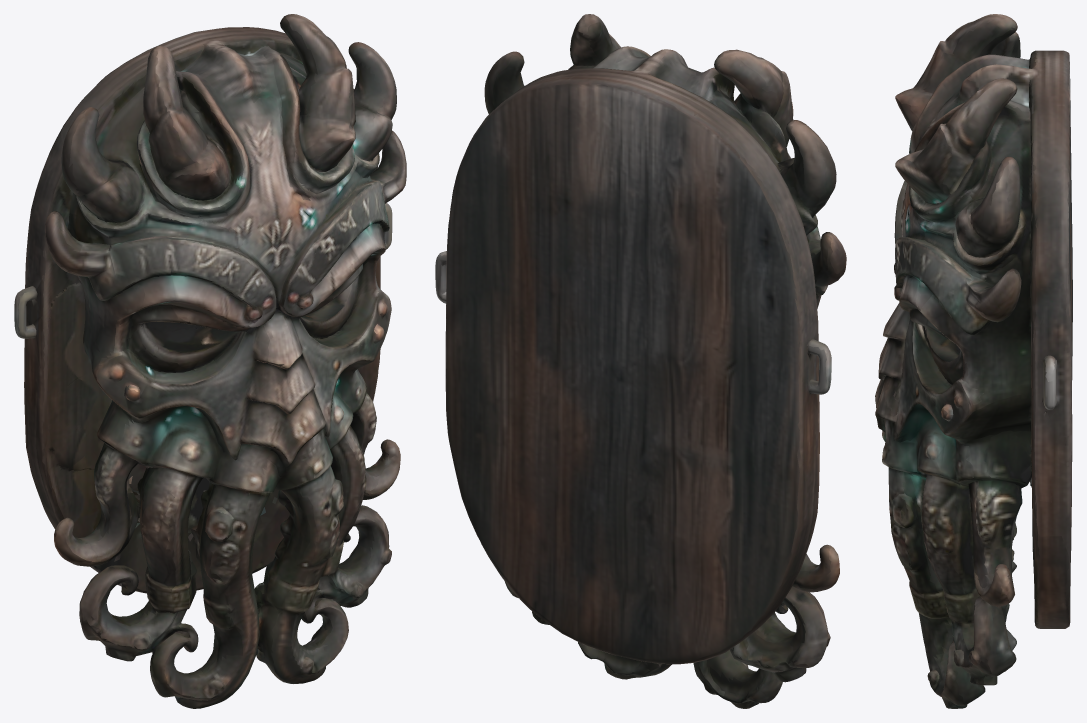
File: cthulhu-wall-mask-optimized.glb
3 views of the same model, side by side, from view 1: azimuth 30°, elevation 25°; view 2: azimuth 150°, elevation 25°; view 3: azimuth 270°, elevation 25° (orthographic). The views are drawn at different scales.
Parts seen in each view (by area): view 1: geometry_0; view 2: geometry_0; view 3: geometry_0.
Boxes of the visible parts, <box> form: geometry_0: <box>14,14,406,708</box>; geometry_0: <box>435,14,846,708</box>; geometry_0: <box>875,14,1072,708</box>.
Bounding box in the file's own units: 0.32 × 0.5228 × 0.1483.
1 material, 1 textured.
